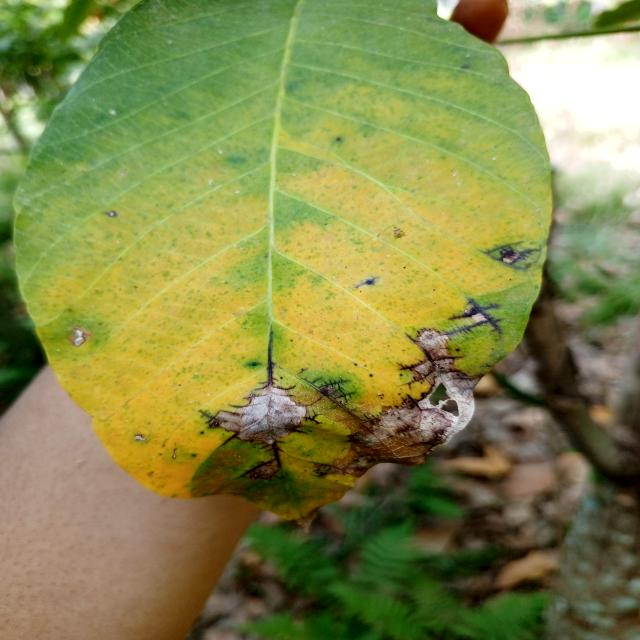Colletotrichum: (108, 210, 116, 218)
Corynespora: (398, 329, 465, 391), (443, 297, 502, 339), (480, 240, 542, 270), (300, 377, 356, 405), (255, 331, 279, 390), (237, 457, 283, 482), (262, 438, 286, 470), (310, 461, 348, 479), (229, 394, 265, 409), (400, 393, 424, 410), (351, 274, 380, 288), (199, 409, 222, 424), (361, 412, 388, 424), (221, 432, 240, 446), (304, 413, 322, 425), (286, 425, 308, 434), (272, 384, 296, 392)
Leaf-Blight: (211, 387, 307, 444), (418, 373, 482, 446)
